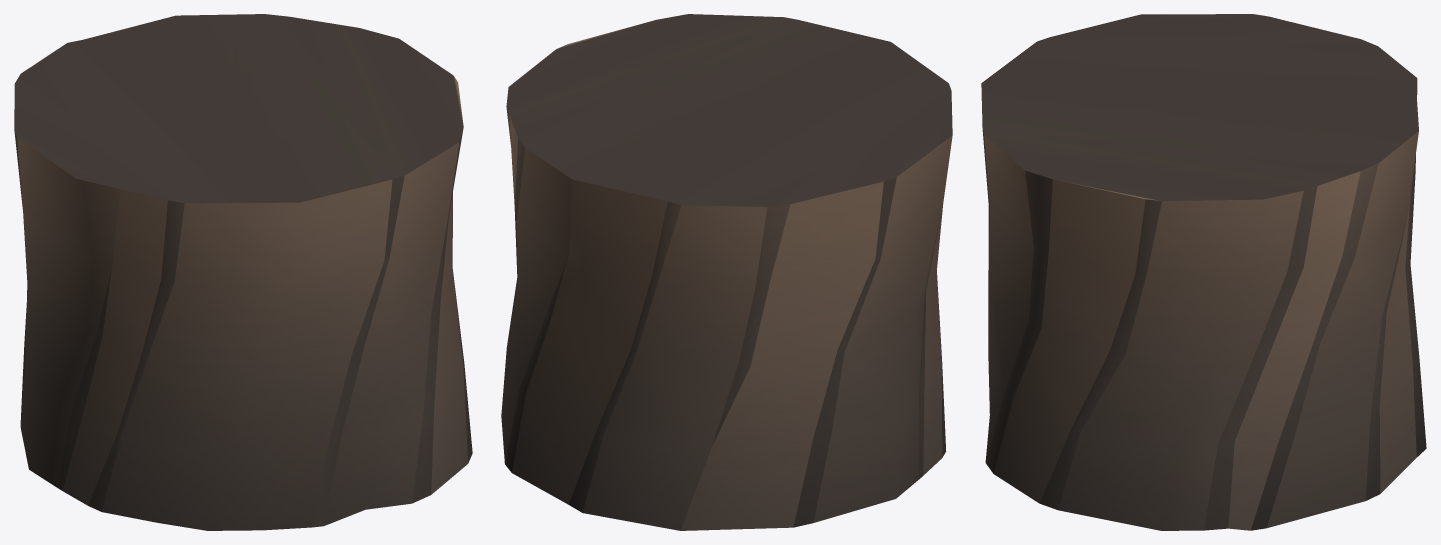
The model's file is elf_trunk.fbx.
3 views of the same model, side by side, from view 1: azimuth 30°, elevation 25°; view 2: azimuth 150°, elevation 25°; view 3: azimuth 270°, elevation 25° (orthographic).
Visible parts, largest first — view 1: elf_trunk; view 2: elf_trunk; view 3: elf_trunk.
Part boxes in pixels (bbox=[...]): elf_trunk: bbox=[14, 14, 472, 530]; elf_trunk: bbox=[501, 14, 952, 530]; elf_trunk: bbox=[981, 14, 1426, 530].
Size of the model in its own units: 3.99 by 3.17 by 3.9.
